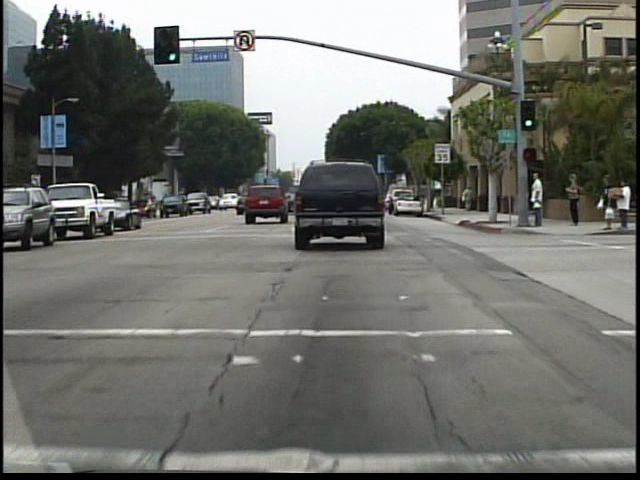person: (528, 166, 549, 231), (566, 169, 586, 227), (460, 183, 475, 214), (423, 185, 435, 212)
